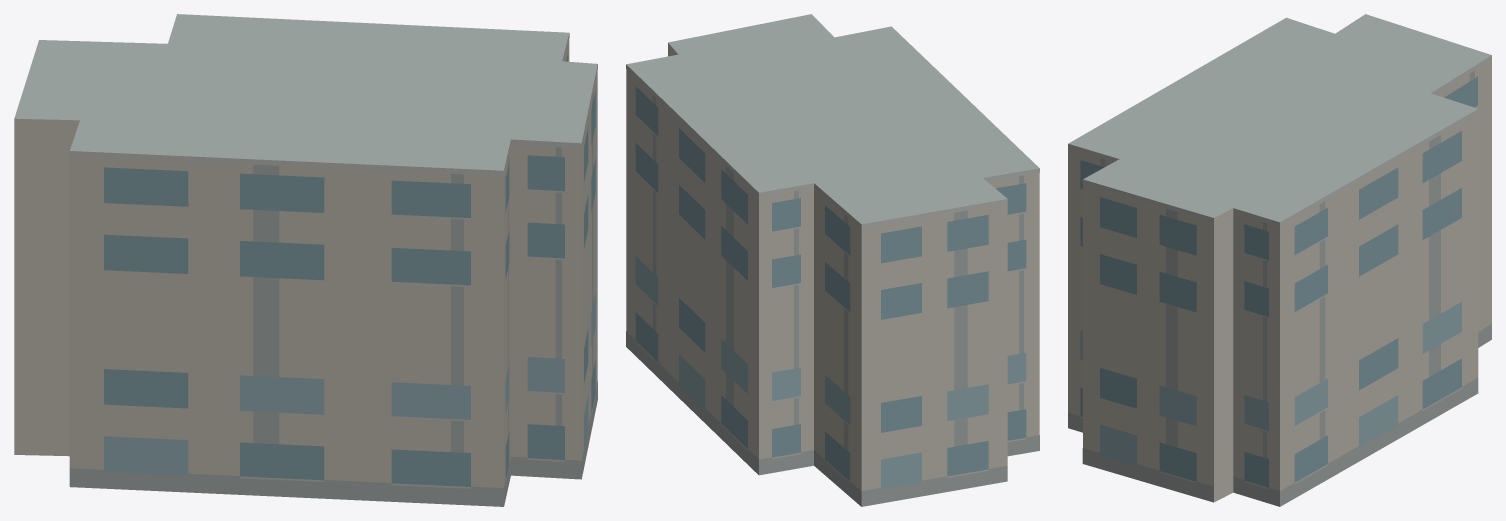
Rendered from survey-upis-32911491.glb.
3 renders of one model, left to right at view 1: azimuth 30°, elevation 25°; view 2: azimuth 150°, elevation 25°; view 3: azimuth 270°, elevation 25°, orthographic. The views are drawn at different scales.
Parts seen in each view (by area): view 1: survey-upis-32911491.tmp; view 2: survey-upis-32911491.tmp; view 3: survey-upis-32911491.tmp.
Boxes of the visible parts, box(x1,y1,x2,y2) form: survey-upis-32911491.tmp: box(14, 14, 597, 506); survey-upis-32911491.tmp: box(626, 14, 1039, 506); survey-upis-32911491.tmp: box(1068, 14, 1491, 506).
Bounding box in the file's own units: 23.96 × 15.25 × 20.59.
